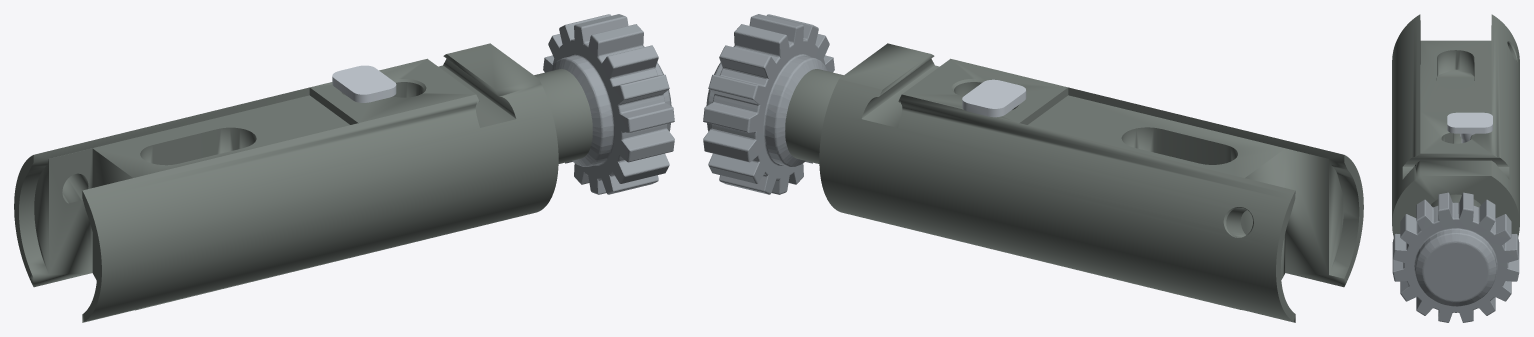
File: 05_BoltAssembly_UVReady.fbx
3 views of the same model, side by side, from view 1: azimuth 30°, elevation 25°; view 2: azimuth 150°, elevation 25°; view 3: azimuth 270°, elevation 25° (orthographic). The views are drawn at different scales.
Visible parts, largest first — view 1: 05_BoltAssembly; view 2: 05_BoltAssembly; view 3: 05_BoltAssembly.
Boxes of the visible parts, x1,y1,x2,y2 form: 05_BoltAssembly: (14,14,674,322); 05_BoltAssembly: (703,14,1363,322); 05_BoltAssembly: (1392,14,1519,322).
Bounding box in the file's own units: 0.1111 × 0.0285 × 0.0286.
1 material, 1 textured.
